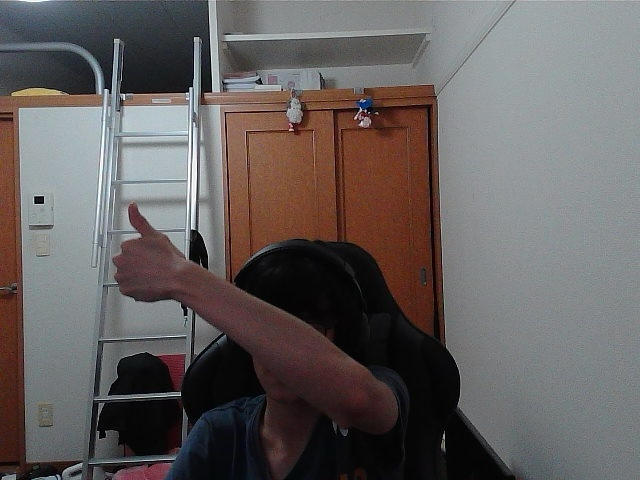thumb_up: (119, 207, 176, 292)
